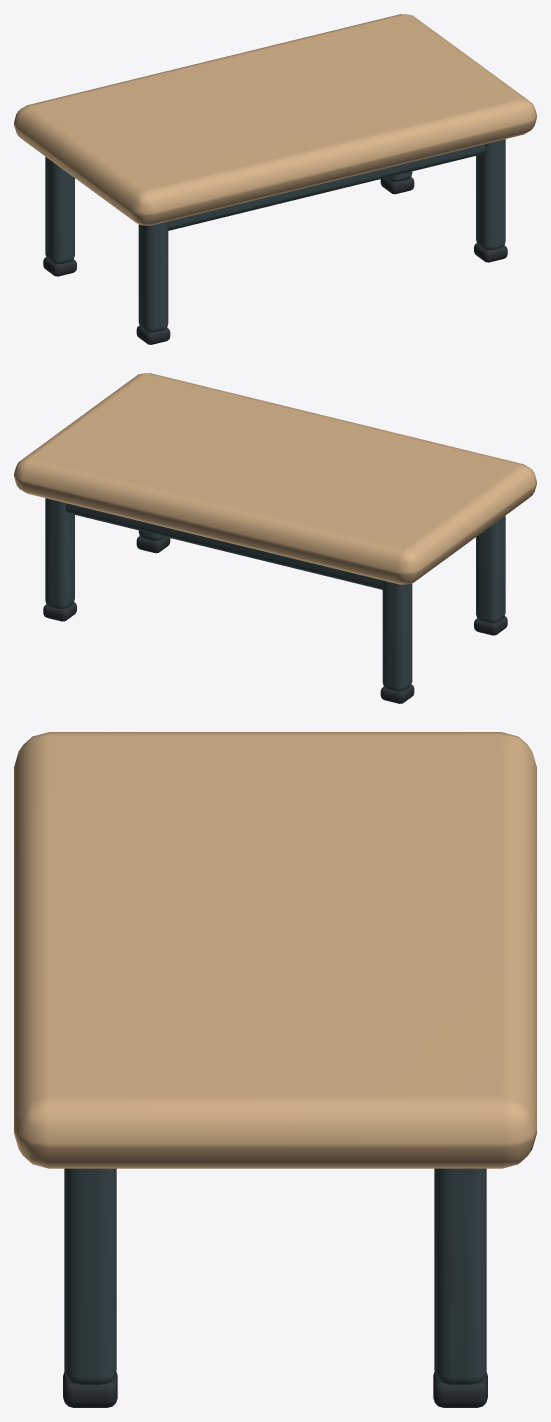
File: HotelTogether-CoffeeTable.glb
The picture shows the model from 3 angles, top to bottom: view 1: azimuth 30°, elevation 25°; view 2: azimuth 150°, elevation 25°; view 3: azimuth 270°, elevation 25°; orthographic projection. The views are drawn at different scales.
Visible parts, largest first — view 1: ASSET_CoffeeTable_Top, ASSET_CoffeeTable_Leg, ASSET_CoffeeTable_Apron, ASSET_CoffeeTable_Leg.002, ASSET_CoffeeTable_Leg.001, ASSET_CoffeeTable_Foot, ASSET_CoffeeTable_Foot.002, ASSET_CoffeeTable_Foot.001, ASSET_CoffeeTable_Foot.003; view 2: ASSET_CoffeeTable_Top, ASSET_CoffeeTable_Leg.001, ASSET_CoffeeTable_Apron.001, ASSET_CoffeeTable_Leg.003, ASSET_CoffeeTable_Leg, ASSET_CoffeeTable_Foot.001, ASSET_CoffeeTable_Foot.003, ASSET_CoffeeTable_Foot, ASSET_CoffeeTable_Foot.002; view 3: ASSET_CoffeeTable_Top, ASSET_CoffeeTable_Leg.002, ASSET_CoffeeTable_Leg.003, ASSET_CoffeeTable_Foot.002, ASSET_CoffeeTable_Foot.003.
Part boxes in pixels (<box>): ASSET_CoffeeTable_Top: <box>14,14,536,225</box>; ASSET_CoffeeTable_Leg: <box>138,221,168,332</box>; ASSET_CoffeeTable_Apron: <box>168,144,485,230</box>; ASSET_CoffeeTable_Leg.002: <box>476,139,505,250</box>; ASSET_CoffeeTable_Leg.001: <box>45,156,74,264</box>; ASSET_CoffeeTable_Foot: <box>136,325,170,344</box>; ASSET_CoffeeTable_Foot.002: <box>474,243,507,262</box>; ASSET_CoffeeTable_Foot.001: <box>43,257,76,276</box>; ASSET_CoffeeTable_Foot.003: <box>380,177,414,194</box>; ASSET_CoffeeTable_Top: <box>14,373,536,584</box>; ASSET_CoffeeTable_Leg.001: <box>382,580,412,691</box>; ASSET_CoffeeTable_Apron.001: <box>65,503,382,589</box>; ASSET_CoffeeTable_Leg.003: <box>45,498,74,609</box>; ASSET_CoffeeTable_Leg: <box>476,515,505,623</box>; ASSET_CoffeeTable_Foot.001: <box>380,684,414,703</box>; ASSET_CoffeeTable_Foot.003: <box>43,602,76,621</box>; ASSET_CoffeeTable_Foot: <box>474,616,507,635</box>; ASSET_CoffeeTable_Foot.002: <box>136,536,170,553</box>; ASSET_CoffeeTable_Top: <box>14,732,536,1168</box>; ASSET_CoffeeTable_Leg.002: <box>64,1168,116,1384</box>; ASSET_CoffeeTable_Leg.003: <box>434,1168,486,1384</box>; ASSET_CoffeeTable_Foot.002: <box>63,1371,117,1407</box>; ASSET_CoffeeTable_Foot.003: <box>433,1371,487,1407</box>.
Bounding box in the file's own units: 1.15 × 0.44 × 0.65.
